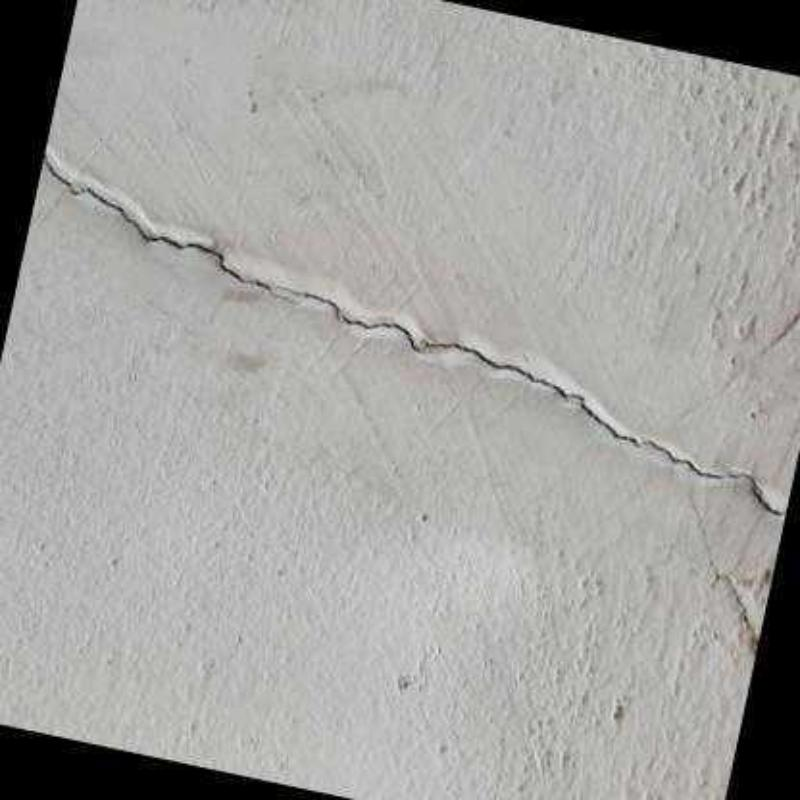pothole: (423, 338, 786, 516), (42, 152, 295, 304), (279, 283, 422, 355), (694, 506, 760, 650)
